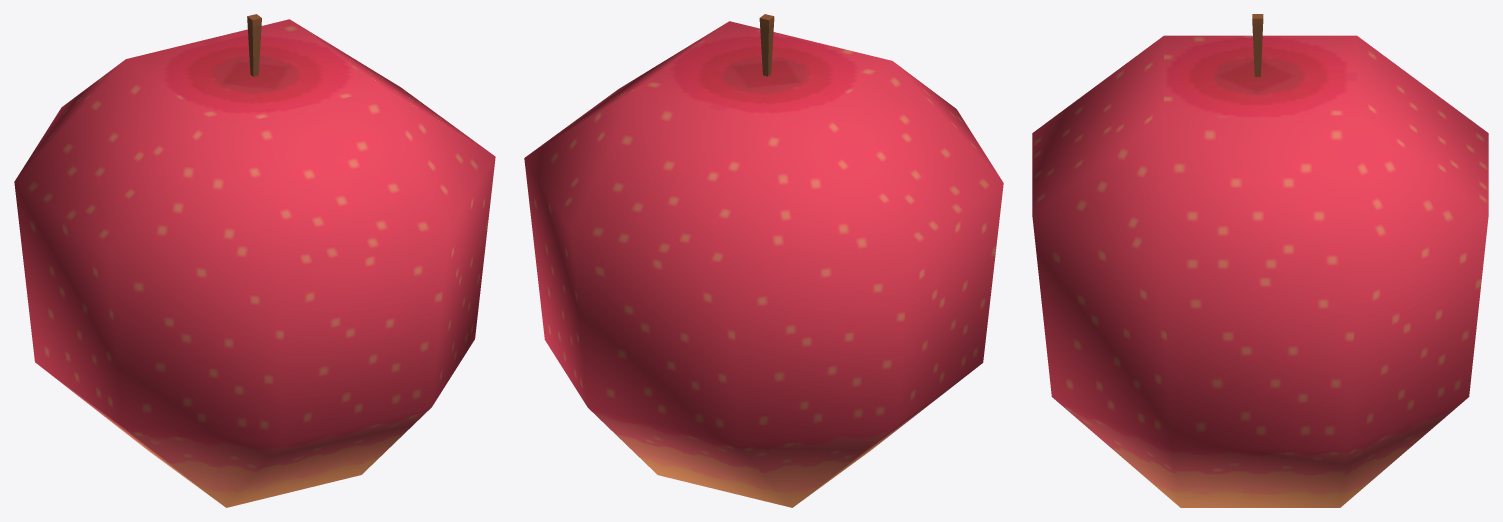
Rendered from APPLE.fbx.
3 views of the same model, side by side, from view 1: azimuth 30°, elevation 25°; view 2: azimuth 150°, elevation 25°; view 3: azimuth 270°, elevation 25° (orthographic). The views are drawn at different scales.
Visible parts, largest first — view 1: APPLE01_B_M 1; view 2: APPLE01_B_M 1; view 3: APPLE01_B_M 1.
Boxes of the visible parts, box(x1,y1,x2,y2) form: APPLE01_B_M 1: box(14, 14, 495, 507); APPLE01_B_M 1: box(524, 14, 1003, 507); APPLE01_B_M 1: box(1032, 14, 1488, 507).
Bounding box in the file's own units: 10.05 × 11.1 × 10.05.
Materials: 1 (1 with a texture image).
